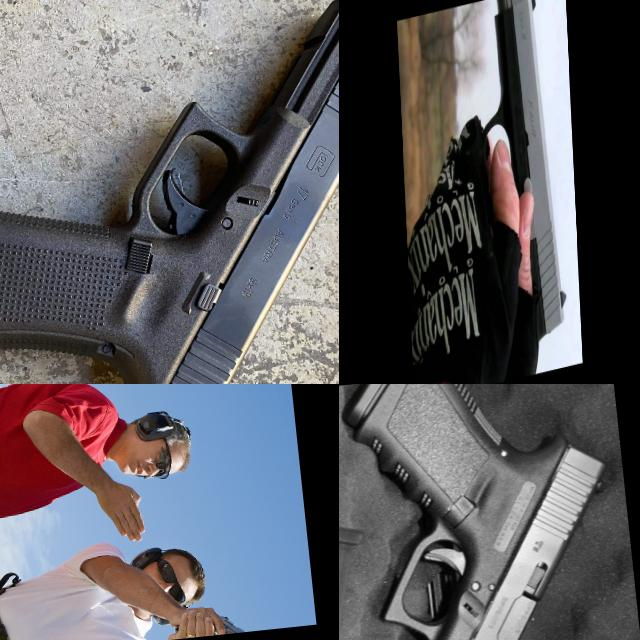handgun: (0, 0, 339, 384), (339, 384, 640, 640), (464, 0, 570, 365), (170, 608, 262, 640), (161, 384, 227, 392)
